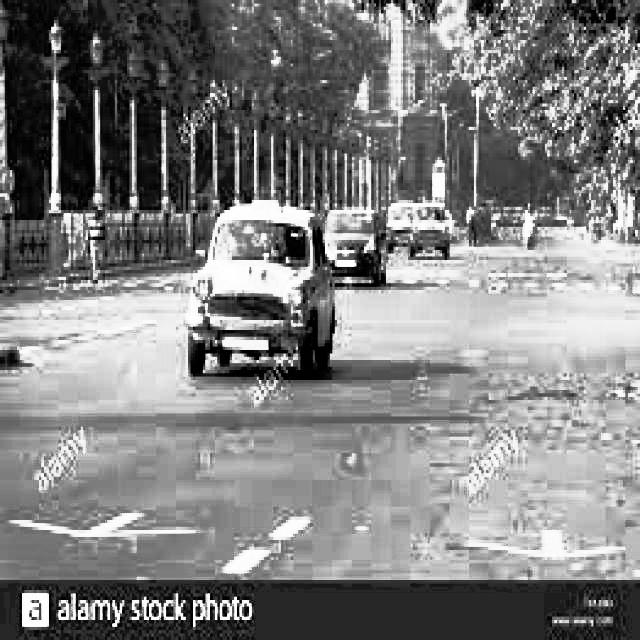Car: (193, 204, 338, 379)
